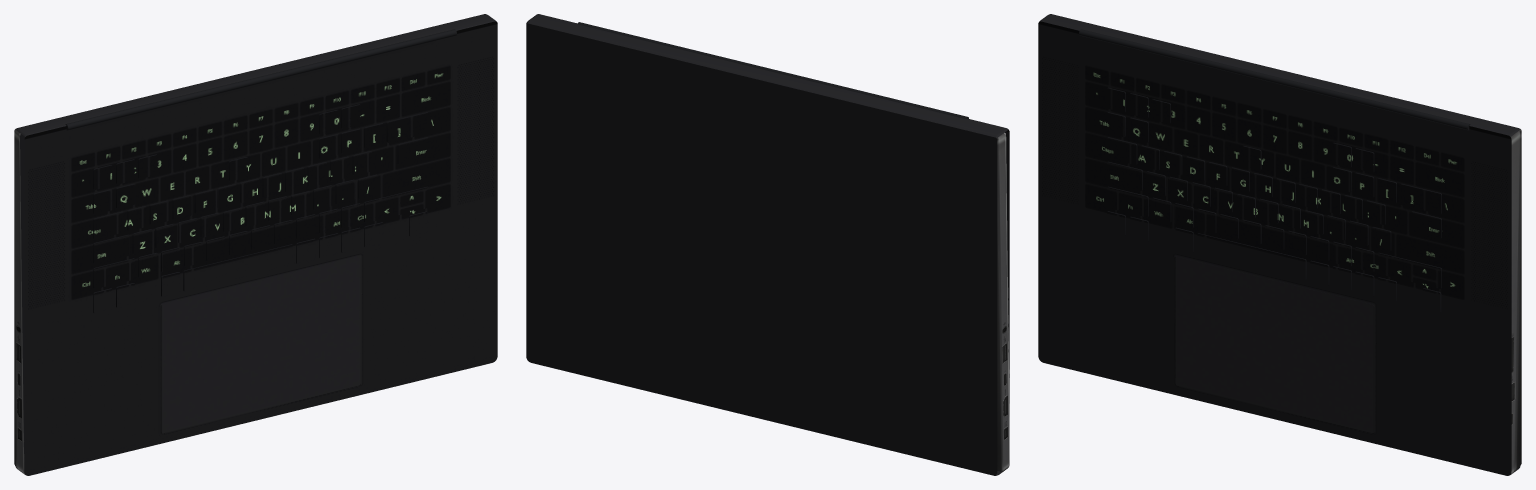
File: body.obj
3 views of the same model, side by side, from view 1: azimuth 30°, elevation 25°; view 2: azimuth 150°, elevation 25°; view 3: azimuth 330°, elevation 25° (orthographic).
Parts seen in each view (by area): view 1: deck, keys.001, base, keys, hinge, base.002, base.003; view 2: base.003, base, base.002, hinge, deck; view 3: deck, keys.001, base, base.001, keys, hinge.
Part boxes in pixels (x1=…): deck: x1=24, y1=21, x2=497, y2=475; keys.001: x1=94, y1=105, x2=428, y2=313; base: x1=15, y1=14, x2=496, y2=475; keys: x1=93, y1=104, x2=428, y2=312; hinge: x1=65, y1=29, x2=456, y2=130; base.002: x1=14, y1=129, x2=24, y2=474; base.003: x1=20, y1=133, x2=24, y2=453; base.003: x1=526, y1=23, x2=997, y2=475; base: x1=527, y1=14, x2=1008, y2=475; base.002: x1=997, y1=133, x2=1009, y2=473; hinge: x1=577, y1=22, x2=968, y2=118; deck: x1=1005, y1=130, x2=1009, y2=403; deck: x1=1038, y1=21, x2=1511, y2=475; keys.001: x1=1107, y1=88, x2=1441, y2=312; base: x1=1039, y1=14, x2=1520, y2=475; base.001: x1=1510, y1=130, x2=1521, y2=474; keys: x1=1107, y1=87, x2=1441, y2=312; hinge: x1=1079, y1=29, x2=1470, y2=130.
Bounding box in the file's own units: 400 × 276 × 18.65.
